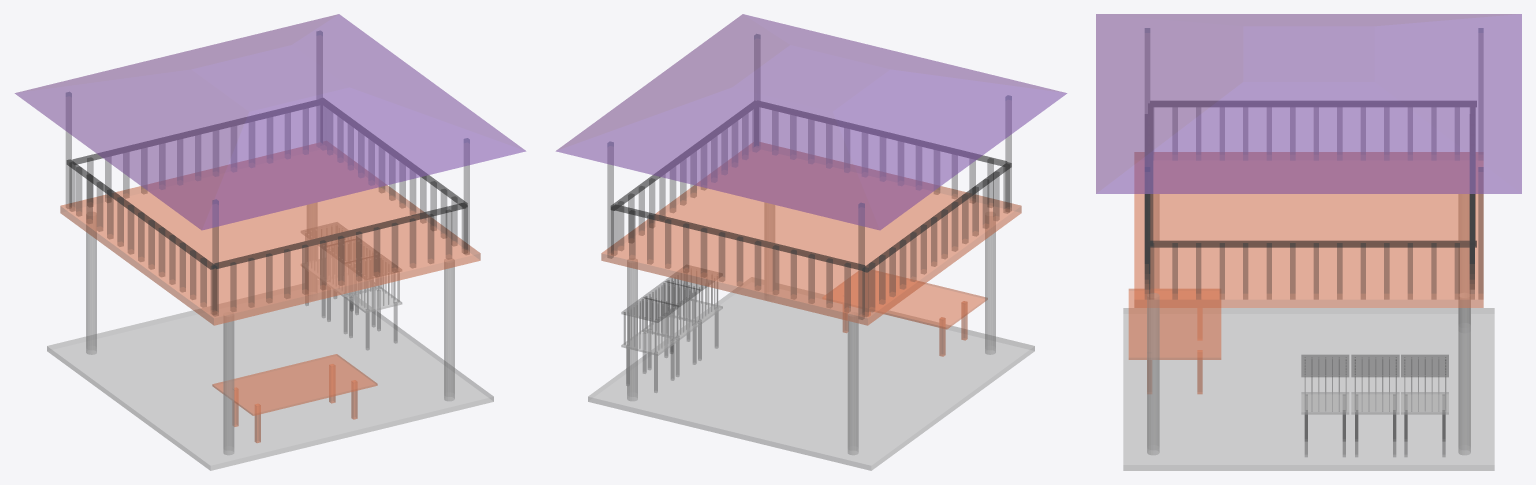
File: FoodZone.fbx
The picture shows the model from 3 angles, left to right: view 1: azimuth 30°, elevation 25°; view 2: azimuth 150°, elevation 25°; view 3: azimuth 270°, elevation 25°; orthographic projection. The views are drawn at different scales.
Visible parts, largest first — view 1: FoodZone; view 2: FoodZone; view 3: FoodZone.
Boxes of the visible parts, x1,y1,x2,y2 form: FoodZone: (15,14,525,470); FoodZone: (556,14,1066,470); FoodZone: (1096,14,1521,470).
Bounding box in the file's own units: 359 × 315 × 359.
